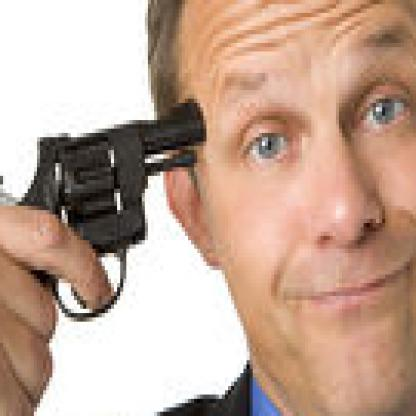gun: (0, 81, 222, 412)
